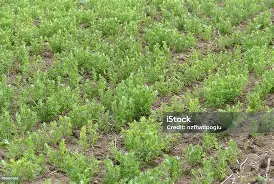crops: (0, 0, 271, 181), (63, 39, 162, 87), (1, 0, 86, 44), (30, 77, 106, 125), (182, 135, 238, 180), (101, 149, 176, 182), (109, 78, 158, 123), (203, 0, 271, 32), (139, 18, 197, 54), (197, 67, 249, 107), (47, 143, 98, 183), (0, 76, 39, 128), (81, 0, 146, 28), (238, 39, 274, 80), (34, 115, 73, 147), (4, 37, 34, 71), (154, 0, 198, 23), (244, 78, 274, 111), (0, 154, 33, 181), (161, 91, 195, 114), (31, 50, 59, 77), (74, 121, 100, 150)
